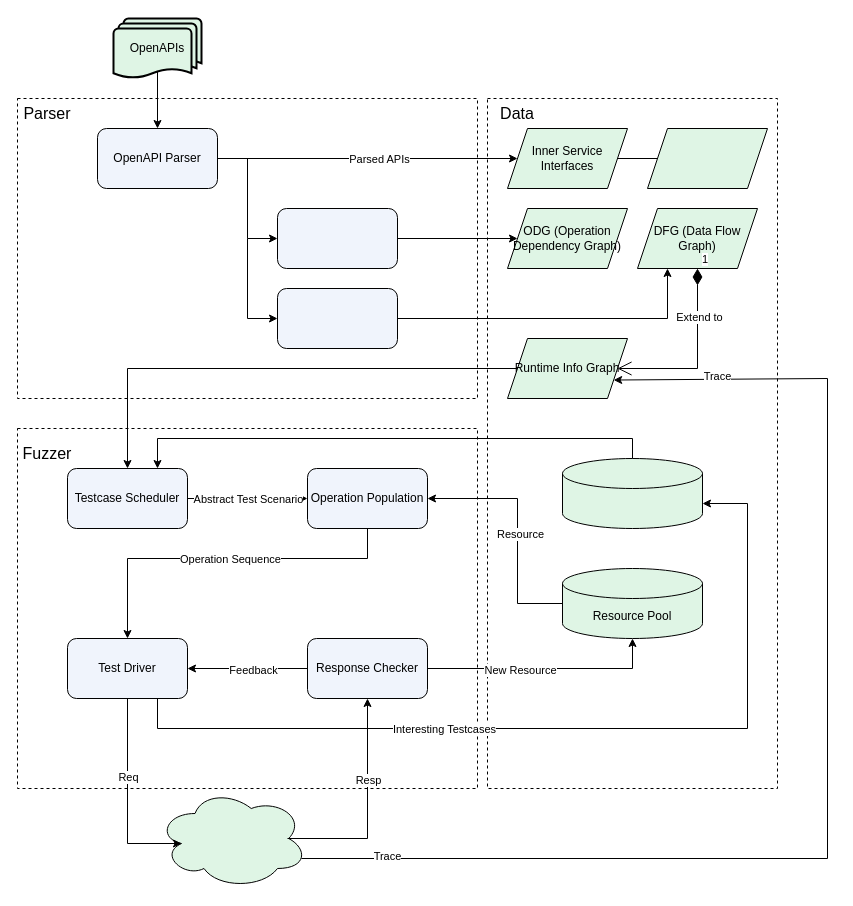
This 853x906 diagram has some shape labels left out. The centre of each missing label's shape, as x and y in pixels:
"Data Flow Graph Parser" goes at point (337, 318).
"Edge Service Interfaces" goes at point (707, 158).
"Operation Dependency Graph Parser" goes at point (337, 238).
"Test Scenario Queue" goes at point (632, 493).
"Test Service" goes at point (232, 838).
